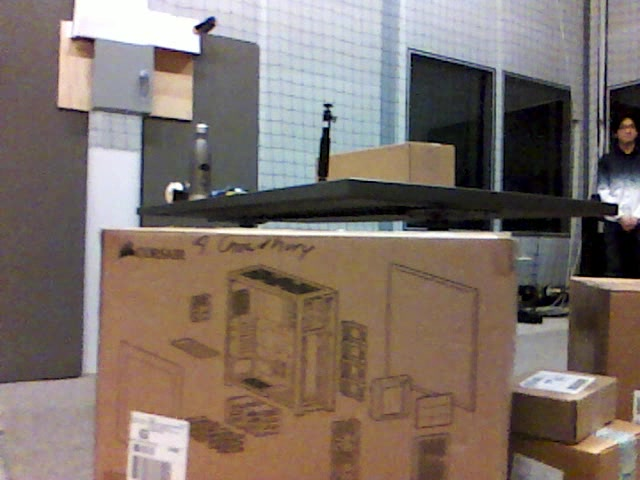box: (97, 227, 517, 480), (569, 272, 640, 416), (512, 371, 616, 442), (514, 421, 640, 476), (316, 141, 454, 185)
